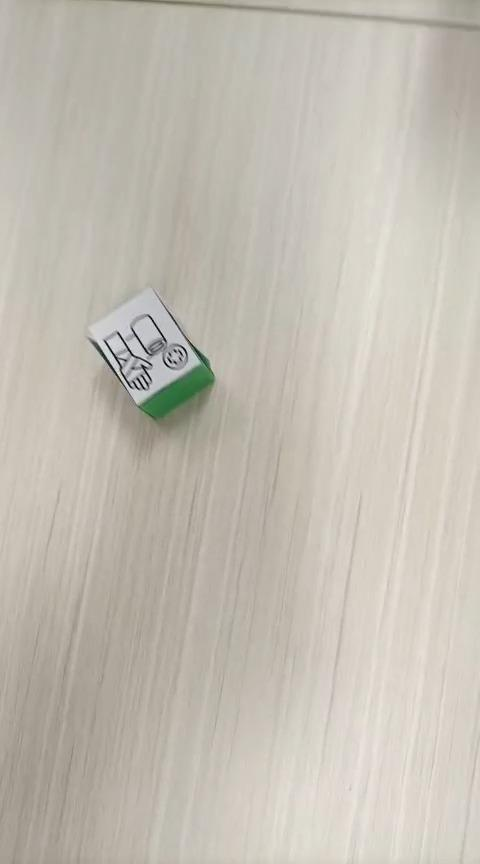Bandages: (84, 284, 215, 420)
